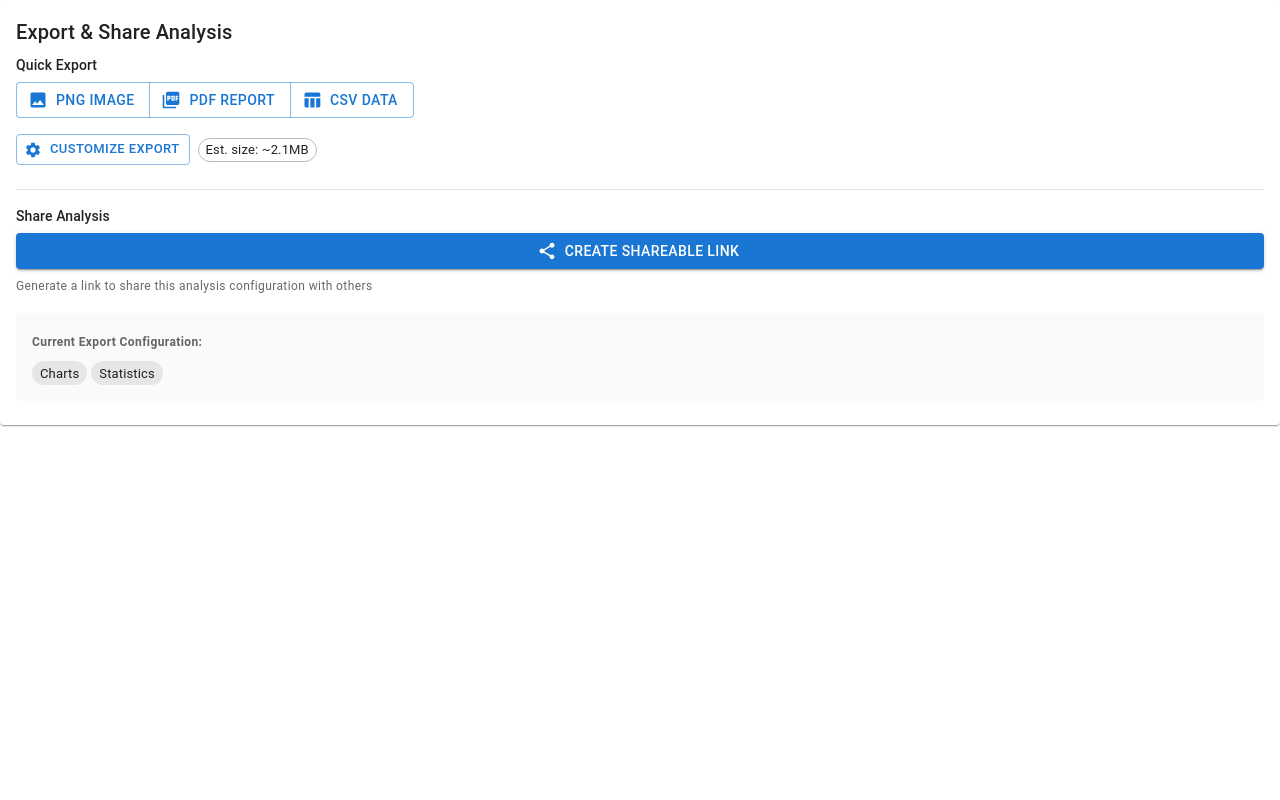
it: ExportControls › should display share dialog after successful share
Click the button "Create Shareable Link" at (640, 251), box [16,233,1264,270]
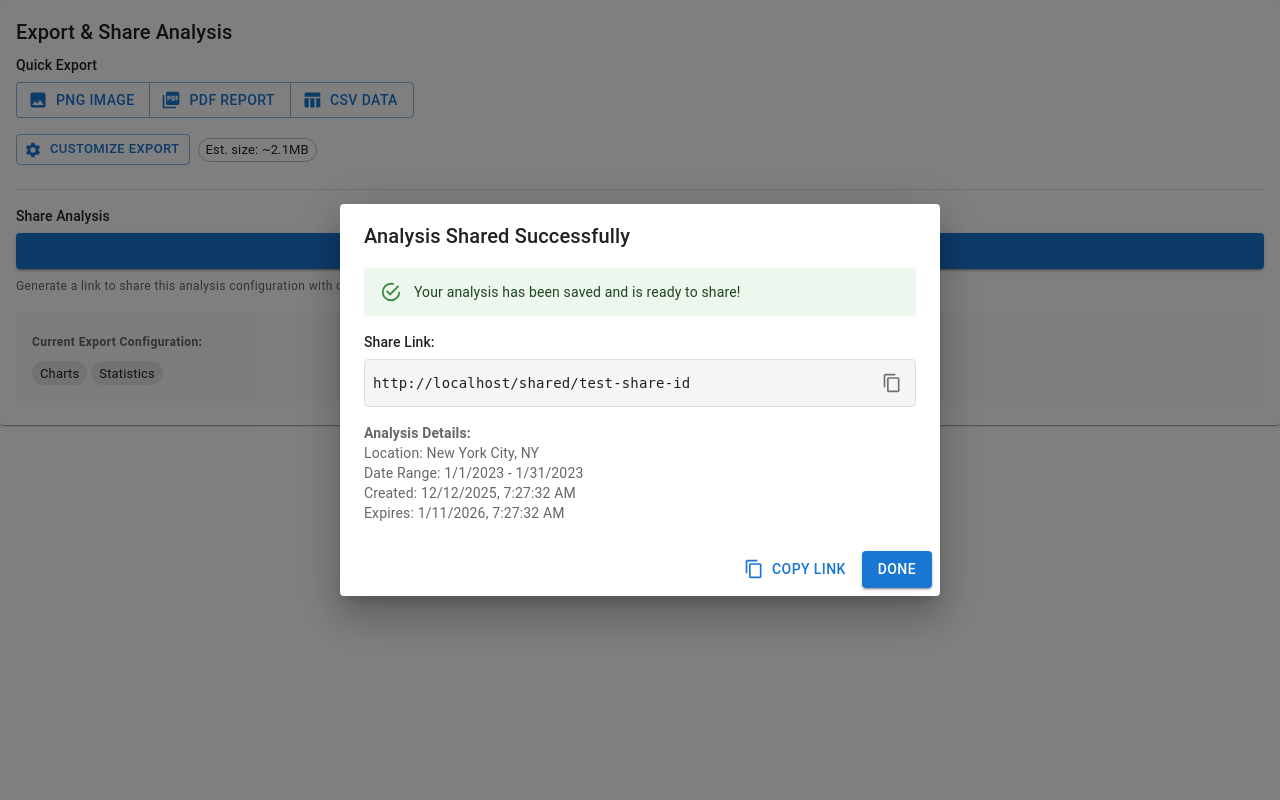
Check: the heading "Analysis Shared Successfully" is shown, box [364,224,630,248]
Check: the text "http://localhost/shared/test-share-id" is shown, box [373,375,690,391]
